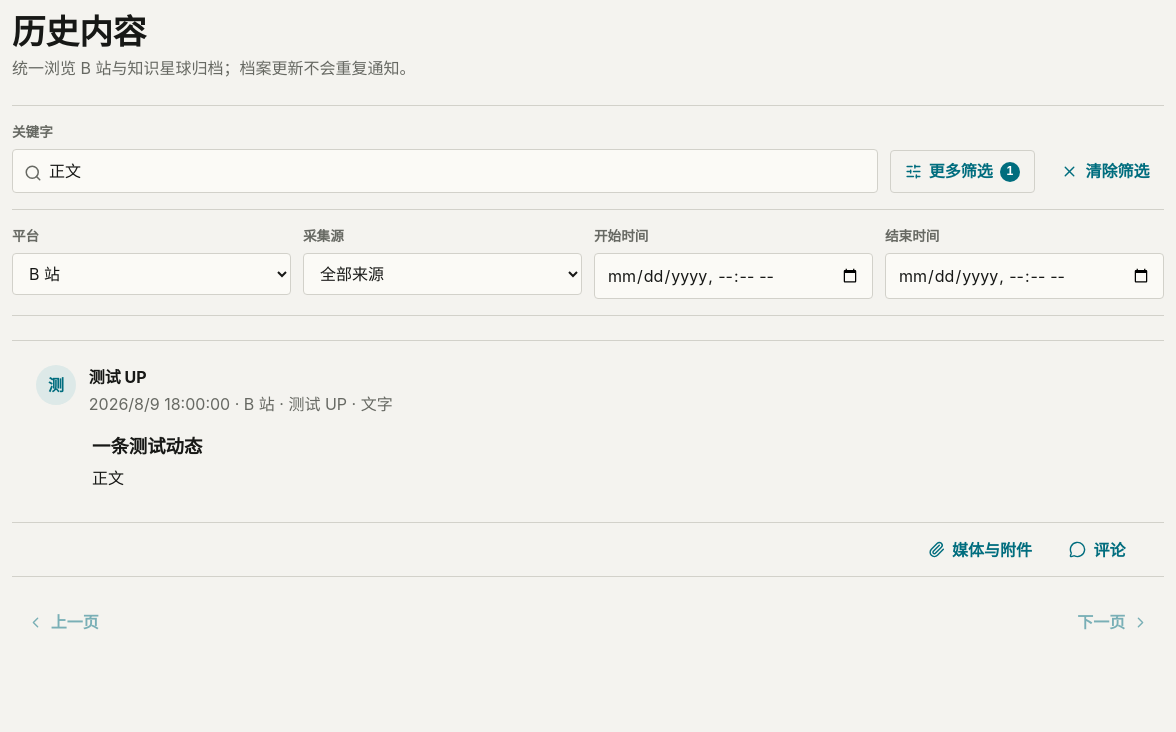
Test: resource pages › keeps keyword search visible and clears progressive history filters
Expected: the field labelled "关键字" holds "正文", [12,149,878,193]
Expected: the dropdown labelled "平台" shows "B 站", [12,253,291,295]
Click the button "清除筛选" at (1105, 172), box [1047,150,1164,193]
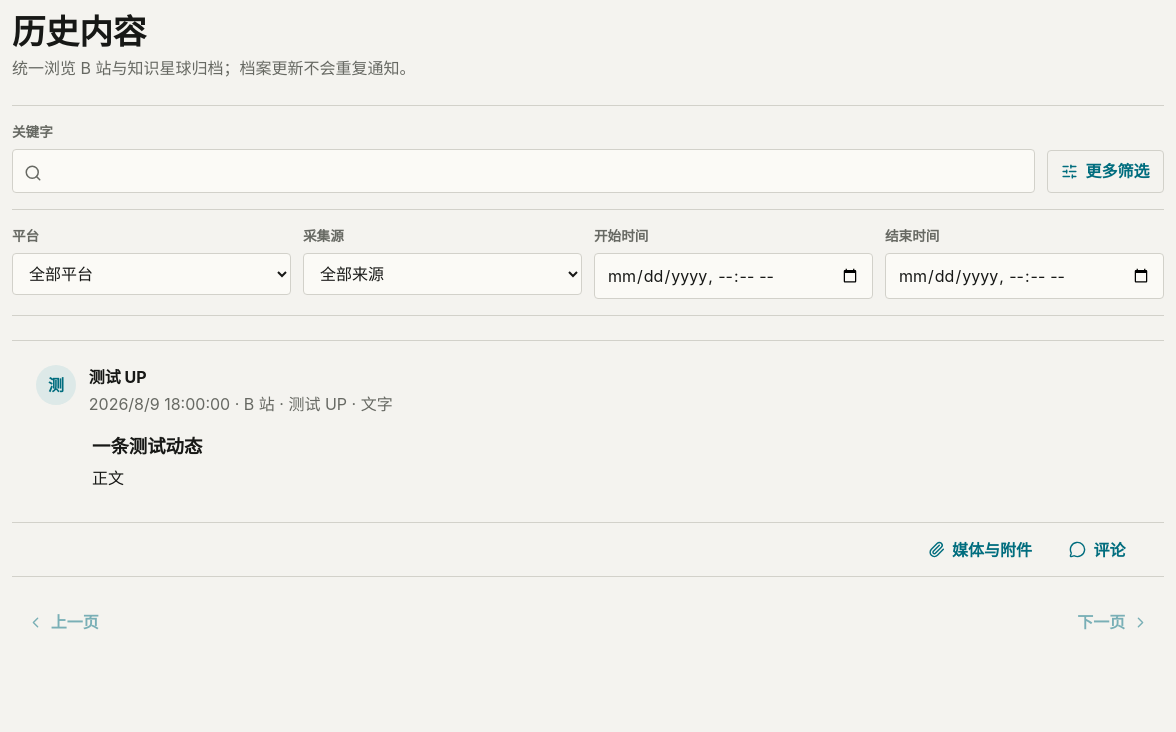
Expected: the field labelled "关键字" is empty, [12,149,1035,193]
